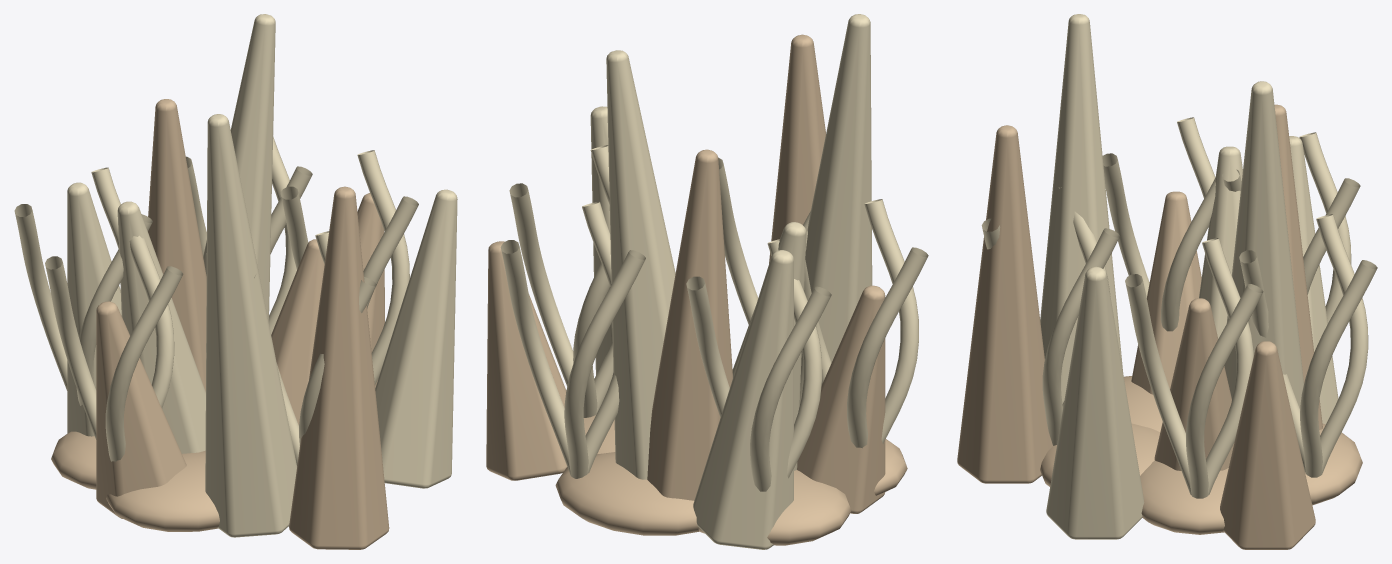
File: bio_crystal_fan_09_near.glb
The picture shows the model from 3 angles, left to right: view 1: azimuth 30°, elevation 25°; view 2: azimuth 150°, elevation 25°; view 3: azimuth 270°, elevation 25°; orthographic projection. The views are drawn at different scales.
Parts seen in each view (by area): view 1: Reflecting mineral prism.007, Reflecting mineral prism.002, Reflecting mineral prism.005, Spiral filament.012, Reflecting mineral prism.004, Reflecting mineral prism.006, Reflecting mineral prism.003, Reflecting mineral prism.009, Mineral substrate, Spiral filament, Spiral filament.003, Reflecting mineral prism.001 (+4 smaller); view 2: Reflecting mineral prism.003, Reflecting mineral prism.006, Reflecting mineral prism.001, Reflecting mineral prism.007, Mineral substrate, Spiral filament.009, Reflecting mineral prism.008, Reflecting mineral prism.004, Spiral filament.003, Spiral filament.012, Reflecting mineral prism.002, Spiral filament (+3 smaller); view 3: Reflecting mineral prism.002, Reflecting mineral prism.005, Reflecting mineral prism.007, Reflecting mineral prism.008, Spiral filament, Reflecting mineral prism.003, Spiral filament.009, Mineral substrate, Spiral filament.012, Reflecting mineral prism, Reflecting mineral prism.004, Spiral filament.006 (+4 smaller).
Boxes of the visible parts, x1,y1,x2,y2 form: Reflecting mineral prism.007: [205, 114, 296, 537]; Reflecting mineral prism.002: [289, 186, 389, 549]; Reflecting mineral prism.005: [375, 189, 457, 488]; Spiral filament.012: [45, 235, 183, 461]; Reflecting mineral prism.004: [96, 301, 186, 518]; Reflecting mineral prism.006: [148, 99, 206, 391]; Reflecting mineral prism.003: [203, 14, 275, 352]; Reflecting mineral prism.009: [117, 201, 205, 453]; Mineral substrate: [51, 431, 219, 531]; Spiral filament: [280, 150, 418, 384]; Spiral filament.003: [14, 167, 152, 405]; Reflecting mineral prism.001: [67, 182, 121, 436]; Reflecting mineral prism.003: [606, 50, 675, 479]; Reflecting mineral prism.006: [647, 149, 732, 500]; Reflecting mineral prism.001: [693, 250, 793, 549]; Reflecting mineral prism.007: [799, 14, 872, 405]; Mineral substrate: [555, 414, 907, 545]; Spiral filament.009: [500, 201, 645, 478]; Reflecting mineral prism.008: [486, 241, 567, 480]; Reflecting mineral prism.004: [797, 285, 885, 513]; Spiral filament.003: [686, 239, 831, 491]; Spiral filament.012: [804, 199, 928, 448]; Reflecting mineral prism.002: [769, 34, 825, 263]; Spiral filament: [509, 145, 613, 417]; Reflecting mineral prism.002: [957, 125, 1052, 483]; Reflecting mineral prism.005: [1046, 266, 1144, 539]; Reflecting mineral prism.007: [1040, 14, 1123, 403]; Reflecting mineral prism.008: [1220, 341, 1315, 549]; Spiral filament: [1125, 238, 1263, 498]; Reflecting mineral prism.003: [1224, 81, 1303, 409]; Spiral filament.009: [1239, 214, 1377, 477]; Mineral substrate: [1040, 376, 1362, 534]; Spiral filament.012: [1102, 117, 1215, 331]; Reflecting mineral prism: [1154, 298, 1234, 470]; Reflecting mineral prism.004: [1131, 191, 1201, 394]; Spiral filament.006: [981, 187, 1119, 445].
Bounding box in the file's own units: 1.66 × 1.79 × 1.61.
